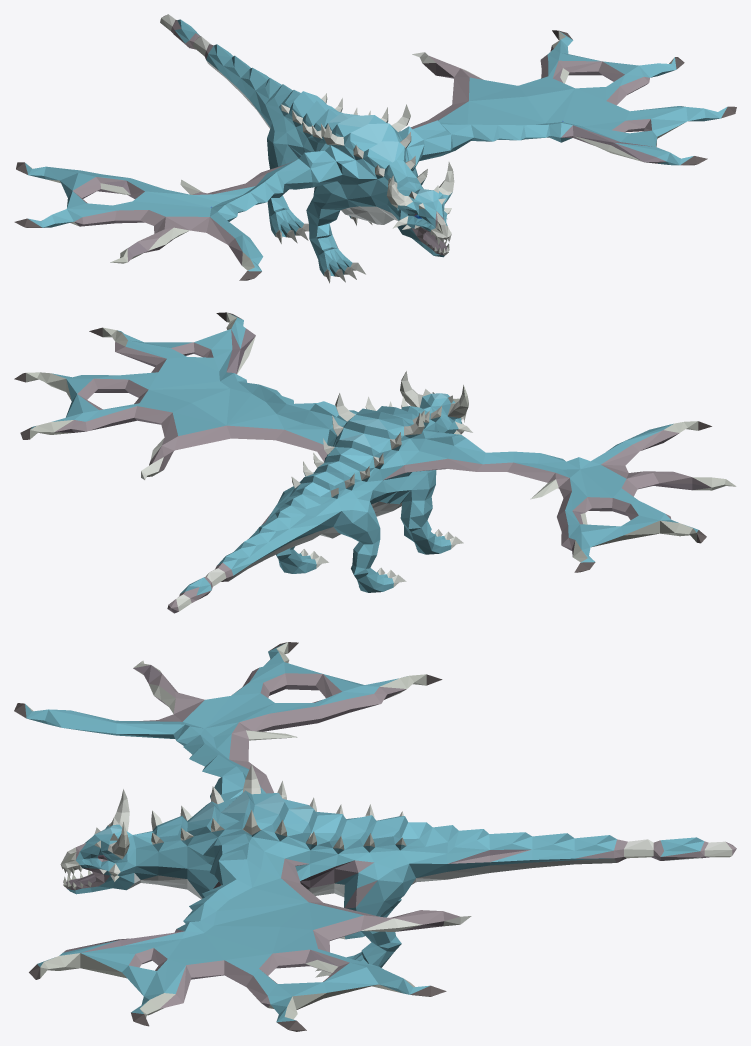
The model's file is vorkath.gltf.
3 views of the same model, one above another, from view 1: azimuth 30°, elevation 25°; view 2: azimuth 150°, elevation 25°; view 3: azimuth 270°, elevation 25° (orthographic). The views are drawn at different scales.
Size of the model in its own units: 1753 by 350 by 1381.
2 materials, 2 textured.
